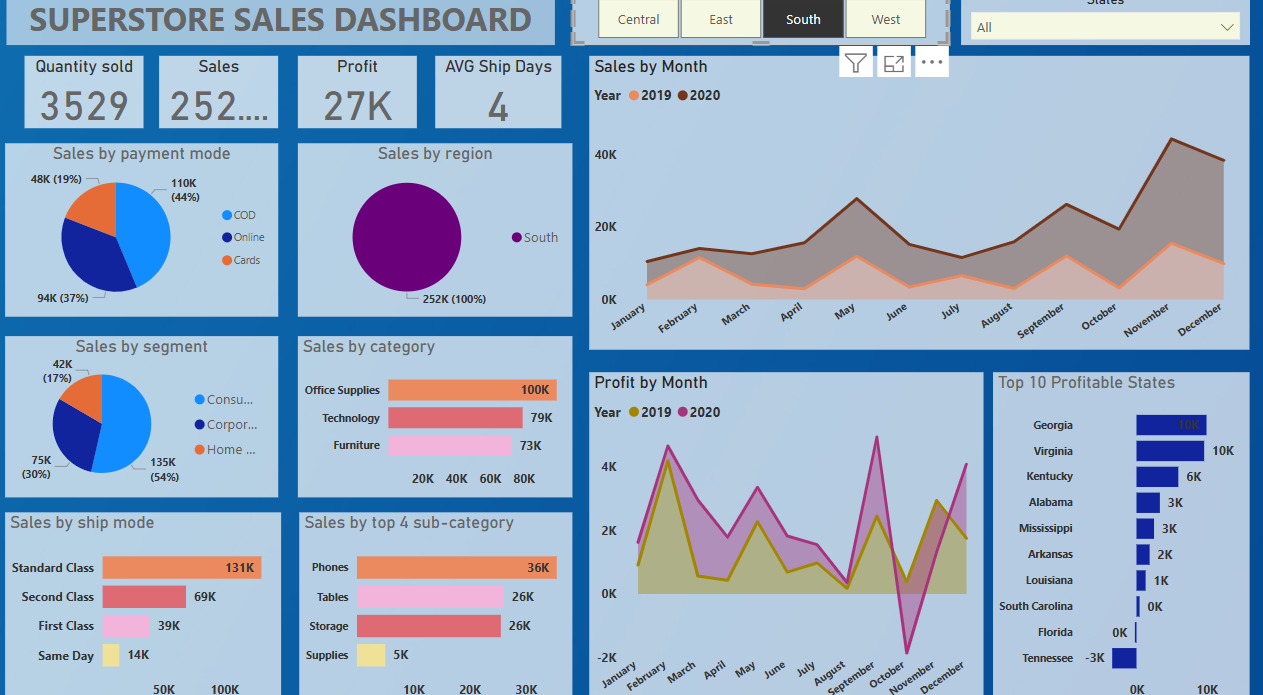

What the dashboard file says about the page in this screenshot:
{"tool":"powerbi","page":{"name":"Page 1","canvas":[1280,720],"ordinal":0},"visuals":[{"type":"textbox","box":[12.6,0,551,53],"z":0},{"type":"card","title":"Quantity sold","fields":{"Values":["Sum(SuperStore_Sales_Dataset.Quantity)"]},"box":[30.7,64.2,120,72.5],"z":1000},{"type":"card","title":"Sales","fields":{"Values":["Sum(SuperStore_Sales_Dataset.Sales)"]},"box":[166,64.2,120,72.5],"z":2000},{"type":"card","title":"Profit","fields":{"Values":["Sum(SuperStore_Sales_Dataset.Profit)"]},"box":[305.5,64.2,120,72.5],"z":3000},{"type":"card","title":"AVG Ship Days","fields":{"Values":["Avg(SuperStore_Sales_Dataset.AVG_Delivery)"]},"box":[443.6,64.2,126.9,72.5],"z":4000},{"type":"slicer","fields":{"Values":["SuperStore_Sales_Dataset.Region"]},"box":[581.7,0,379.4,53],"z":5000},{"type":"pieChart","title":"Sales by payment mode","fields":{"Category":["SuperStore_Sales_Dataset.Payment Mode"],"Y":["Sum(SuperStore_Sales_Dataset.Sales)"]},"box":[11.2,152,274.8,174.4],"z":6000},{"type":"pieChart","title":"Sales by region","fields":{"Y":["Sum(SuperStore_Sales_Dataset.Sales)"],"Category":["SuperStore_Sales_Dataset.Region"]},"box":[305.5,152,276.2,174.4],"z":7000},{"type":"pieChart","title":"Sales by segment","fields":{"Y":["Sum(SuperStore_Sales_Dataset.Sales)"],"Category":["SuperStore_Sales_Dataset.Segment"]},"box":[11.2,345.9,274.8,161.8],"z":8000},{"type":"barChart","title":"Sales by ship mode","fields":{"Category":["SuperStore_Sales_Dataset.Ship Mode"],"Y":["Sum(SuperStore_Sales_Dataset.Sales)"]},"box":[11.2,523.1,277.6,196.7],"z":9000},{"type":"barChart","title":"Sales by category","fields":{"Y":["Sum(SuperStore_Sales_Dataset.Sales)"],"Category":["SuperStore_Sales_Dataset.Category"]},"box":[305.5,345.9,276.2,161.8],"z":10000},{"type":"barChart","title":"Sales by top 4 sub-category","fields":{"Y":["Sum(SuperStore_Sales_Dataset.Sales)"],"Category":["SuperStore_Sales_Dataset.Sub-Category"]},"box":[306.9,523.1,274.8,196.7],"z":11000},{"type":"stackedAreaChart","title":"Sales by Month","fields":{"Y":["Sum(SuperStore_Sales_Dataset.Sales)"],"Category":["SuperStore_Sales_Dataset.Order Date.Variation.Date Hierarchy.Month"],"Series":["SuperStore_Sales_Dataset.Order Date.Variation.Date Hierarchy.Year"]},"box":[598.4,64.2,664,295.7],"z":12000},{"type":"stackedAreaChart","title":"Profit by Month","fields":{"Category":["SuperStore_Sales_Dataset.Order Date.Variation.Date Hierarchy.Month"],"Series":["SuperStore_Sales_Dataset.Order Date.Variation.Date Hierarchy.Year"],"Y":["Sum(SuperStore_Sales_Dataset.Profit)"]},"box":[598.4,382.2,396.2,337.6],"z":13000},{"type":"barChart","title":"Top 10 Profitable States","fields":{"Category":["SuperStore_Sales_Dataset.State"],"Y":["Sum(SuperStore_Sales_Dataset.Profit)"]},"box":[1004.3,382.2,258.1,337.6],"z":14000},{"type":"slicer","title":"States","fields":{"Values":["SuperStore_Sales_Dataset.State"]},"box":[972.3,0,290.1,53],"z":14001}]}

Visuals, with their boxes in screenshot pixels (x1, y1, x2, y2), scaled from the page's 1280x720 canvas onto the 1263x695 screenshot:
textbox: box(12, 0, 556, 51)
"Quantity sold" card: box(30, 62, 149, 132)
"Sales" card: box(164, 62, 282, 132)
"Profit" card: box(301, 62, 420, 132)
"AVG Ship Days" card: box(438, 62, 563, 132)
slicer - SuperStore_Sales_Dataset.Region: box(574, 0, 948, 51)
"Sales by payment mode" pieChart: box(11, 147, 282, 315)
"Sales by region" pieChart: box(301, 147, 574, 315)
"Sales by segment" pieChart: box(11, 334, 282, 490)
"Sales by ship mode" barChart: box(11, 505, 285, 694)
"Sales by category" barChart: box(301, 334, 574, 490)
"Sales by top 4 sub-category" barChart: box(303, 505, 574, 694)
"Sales by Month" stackedAreaChart: box(590, 62, 1246, 347)
"Profit by Month" stackedAreaChart: box(590, 369, 981, 694)
"Top 10 Profitable States" barChart: box(991, 369, 1246, 694)
"States" slicer: box(959, 0, 1246, 51)
